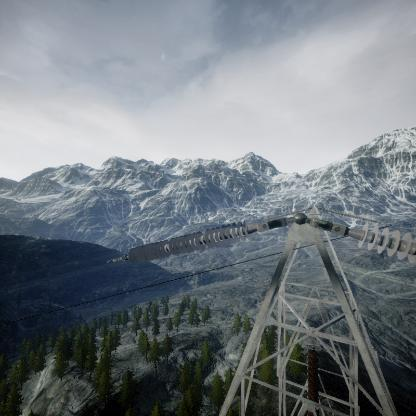insulator: (104, 217, 267, 266)
